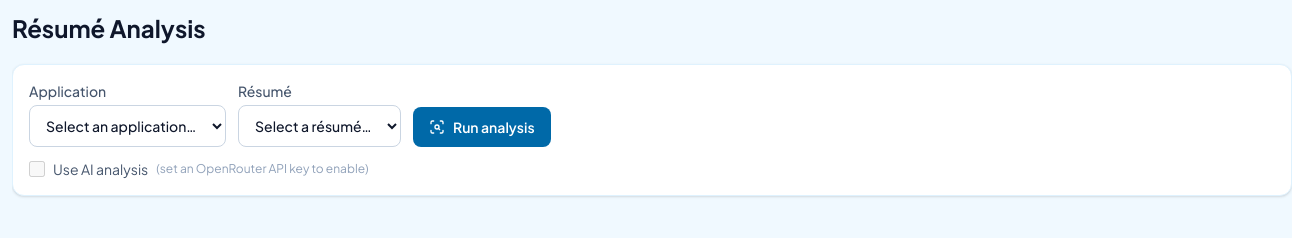
shows the no-job-description note when the selected application has no JD
The width and height of the screenshot is (1292, 238).
Select "Backend Engineer" in the dropdown labelled "Application" at (128,126), box [29,105,226,147]
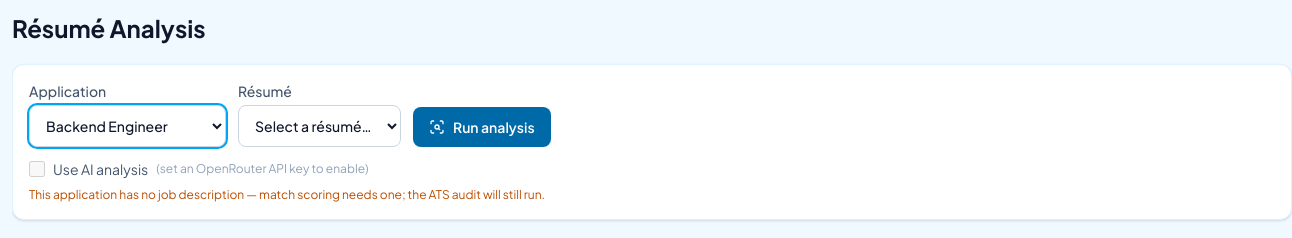
expect the text "no job description" is shown: met, box [29,187,545,202]
